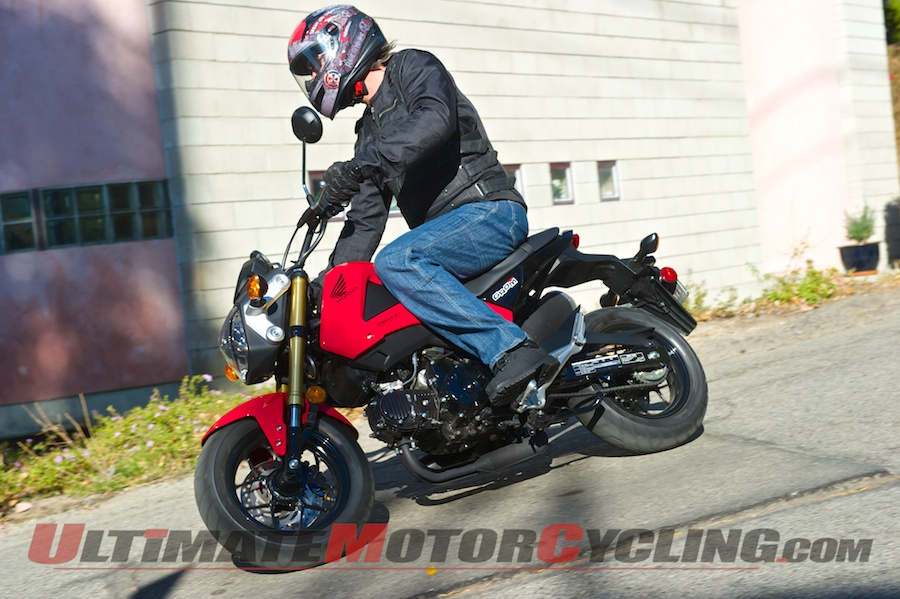helmet: (278, 1, 398, 119)
